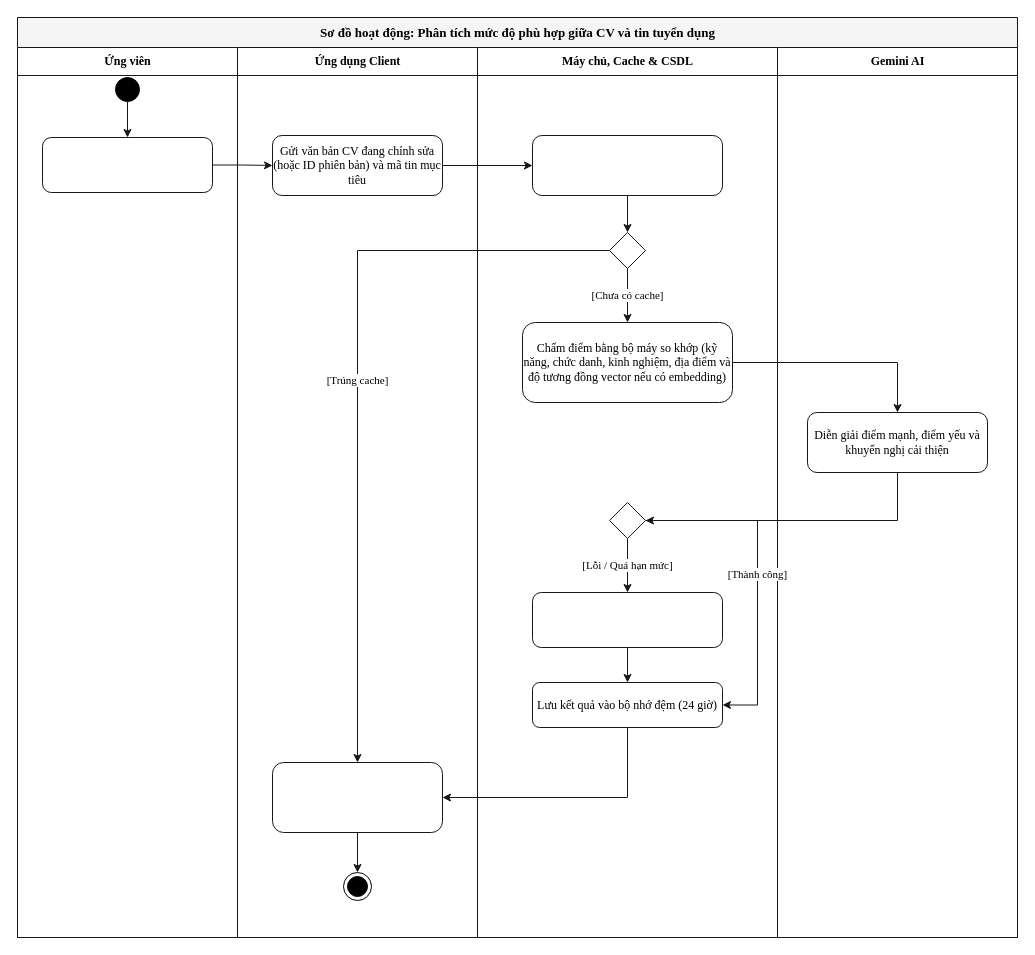
The diagram is 1035 pixels wide and 955 high, and some of its shapes have lost their labels. The shapes that lost their labels are listed below. From the top down, each one's centre as x and y in pixels, then its label:
the point at 127,164: Chọn vị trí tuyển dụng mục tiêu và nhấn Chấm điểm
the point at 627,165: Chuẩn hóa nội dung CV/tin và kiểm tra Redis Cache theo mã băm
the point at 627,620: Tạo nhận xét và khuyến nghị dự phòng từ kết quả bộ máy so khớp
the point at 357,797: Hiển thị điểm tổng hợp, phân rã tiêu chí, kỹ năng phù hợp/thiếu và gợi ý
